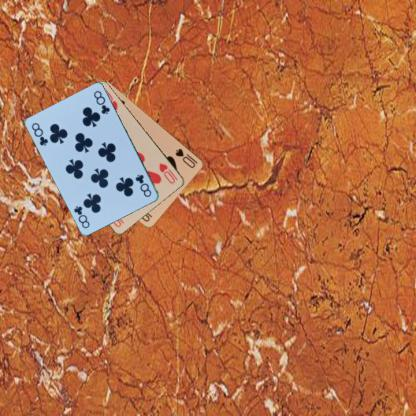10h: (157, 161, 179, 185)
10s: (173, 146, 199, 169)
8c: (30, 121, 50, 148), (133, 172, 152, 198)
